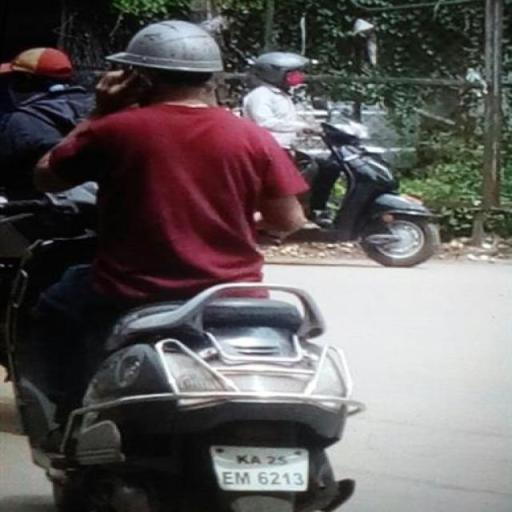numberplate: (215, 442, 317, 493)
using mobile: (100, 62, 156, 108)
